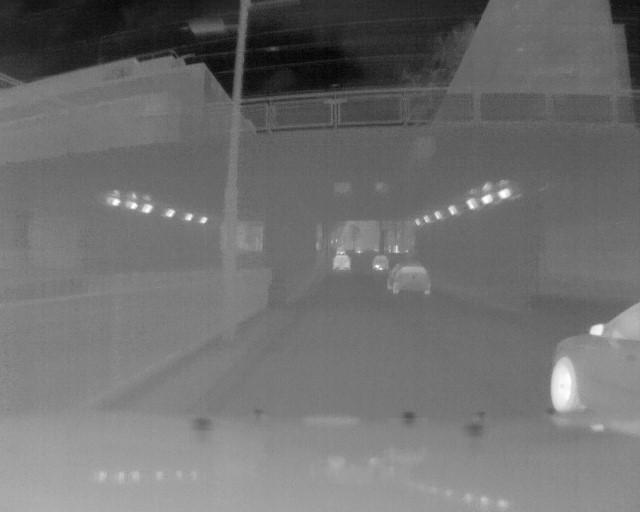car: (552, 297, 639, 431), (393, 260, 435, 296), (329, 244, 349, 272), (370, 250, 390, 270)
